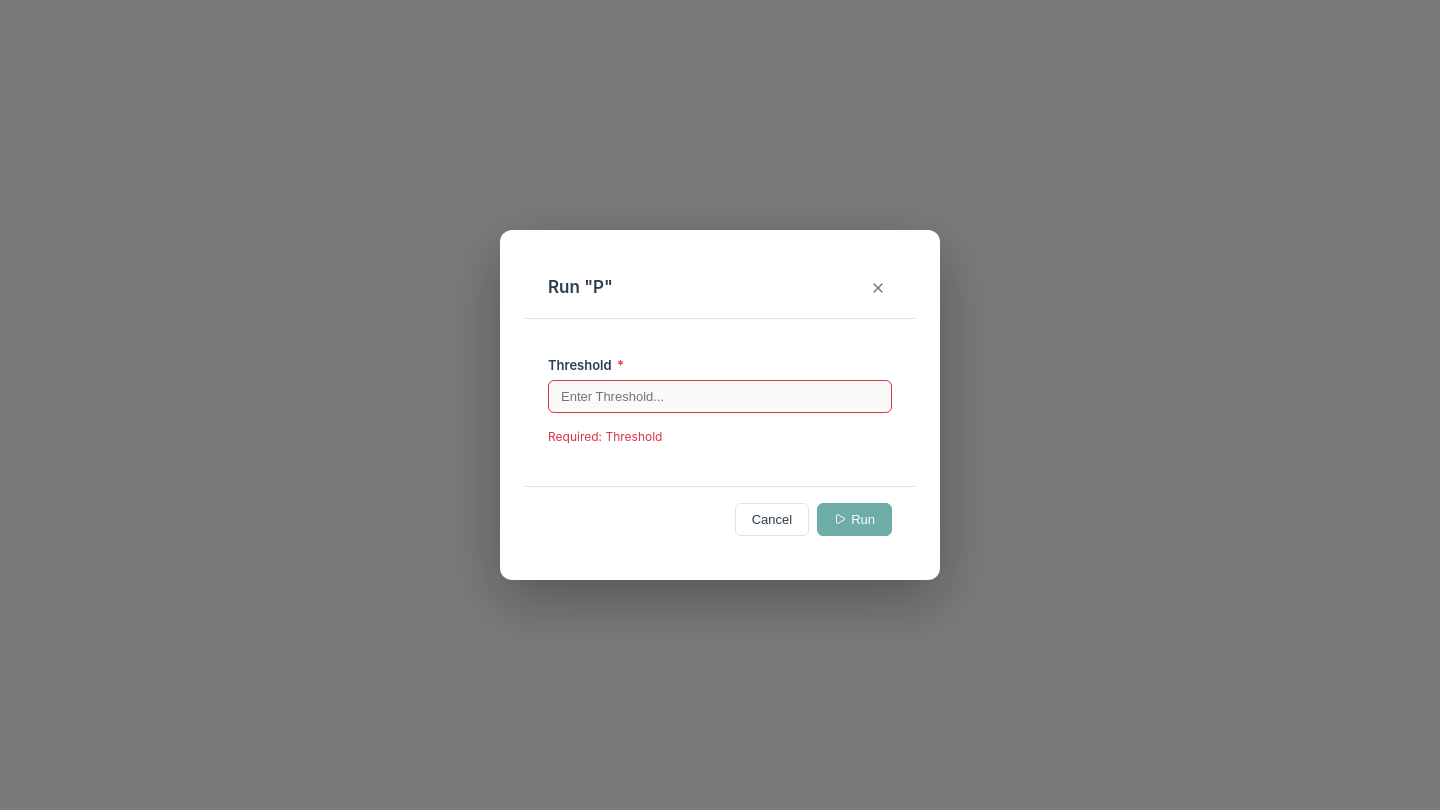
ClusterProgramRunModal › disables Run while required params are missing
Expected: the button with test id "run-program" is disabled, 817,503 -> 892,536
In the field with id "cp-param-name": (720, 396) 548,380 -> 892,413, type "value"
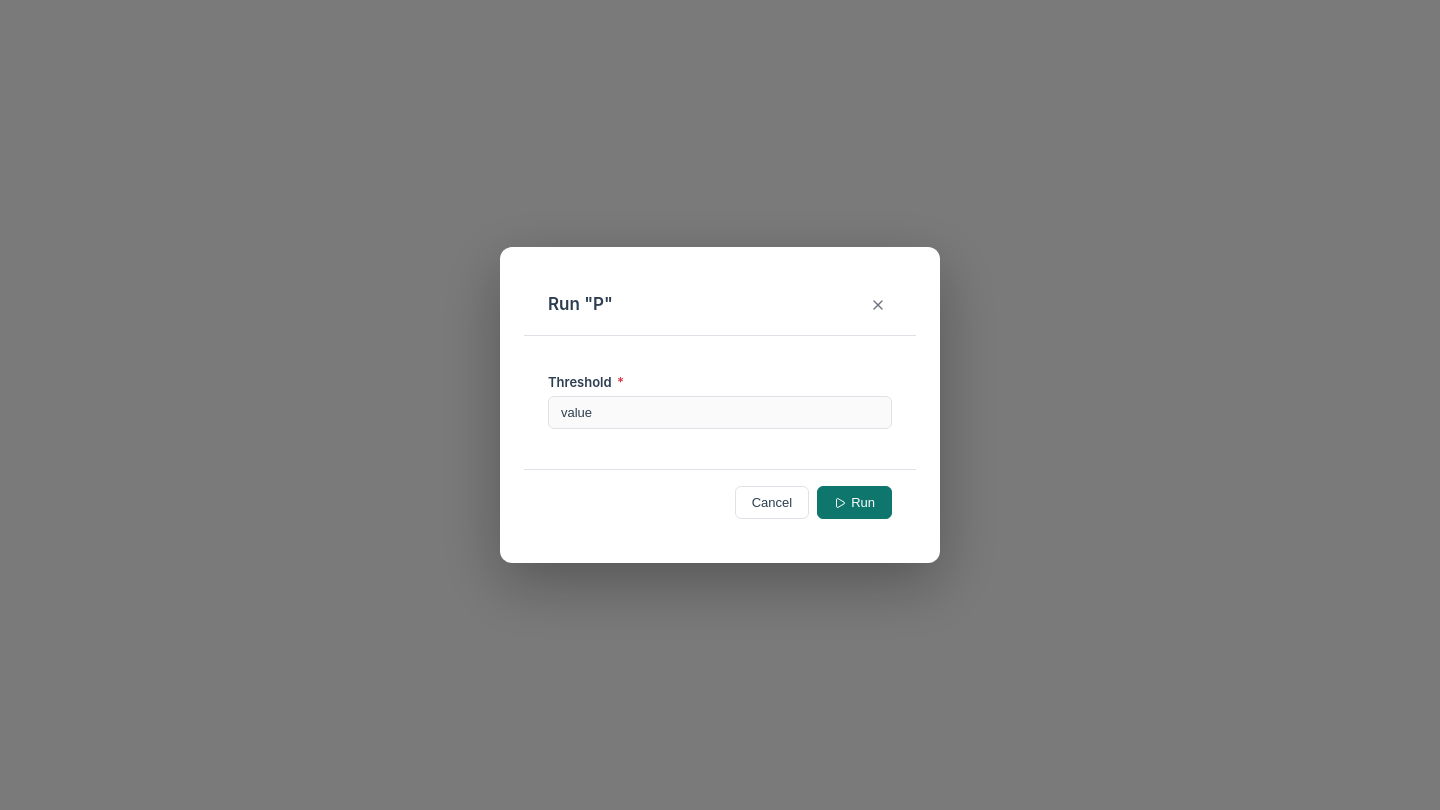
Expected: the button with test id "run-program" is enabled, 817,486 -> 892,519
